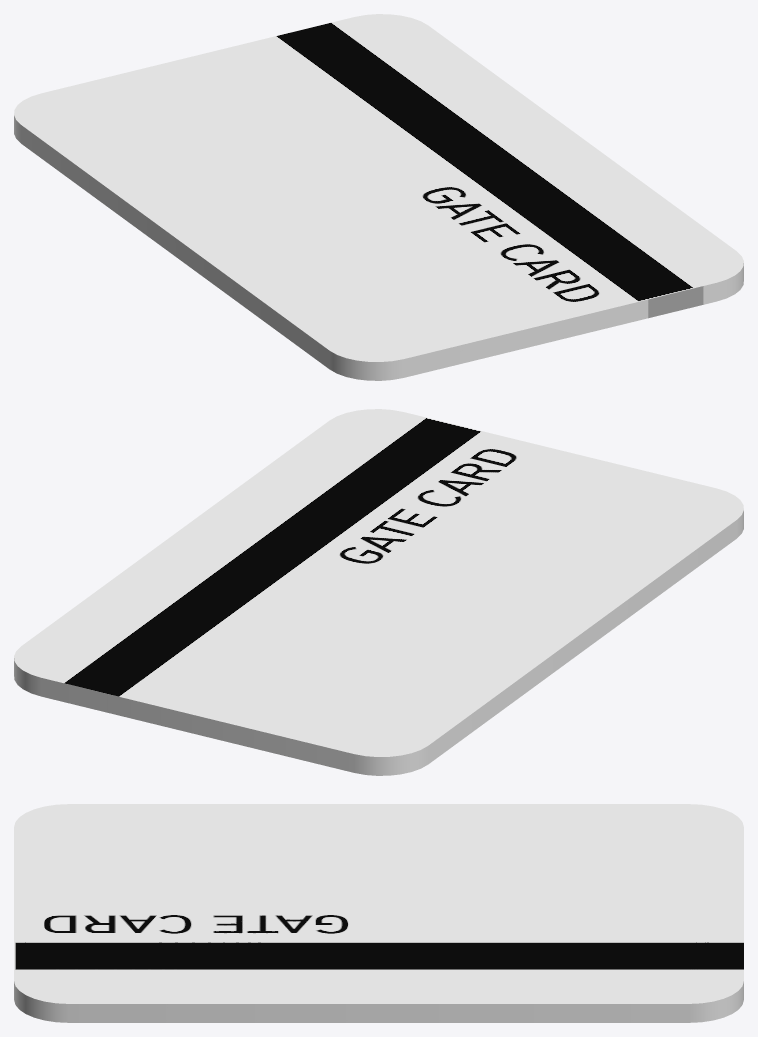
Rendered from cardkey.FBX.
3 renders of one model, top to bottom at view 1: azimuth 30°, elevation 25°; view 2: azimuth 150°, elevation 25°; view 3: azimuth 270°, elevation 25°, orthographic.
Parts seen in each view (by area): view 1: Rectangle001; view 2: Rectangle001; view 3: Rectangle001.
Boxes of the visible parts, x1,y1,x2,y2 form: Rectangle001: [14, 14, 743, 380]; Rectangle001: [14, 409, 743, 775]; Rectangle001: [14, 804, 743, 1022].
Bounding box in the file's own units: 45.28 × 2 × 69.89.
